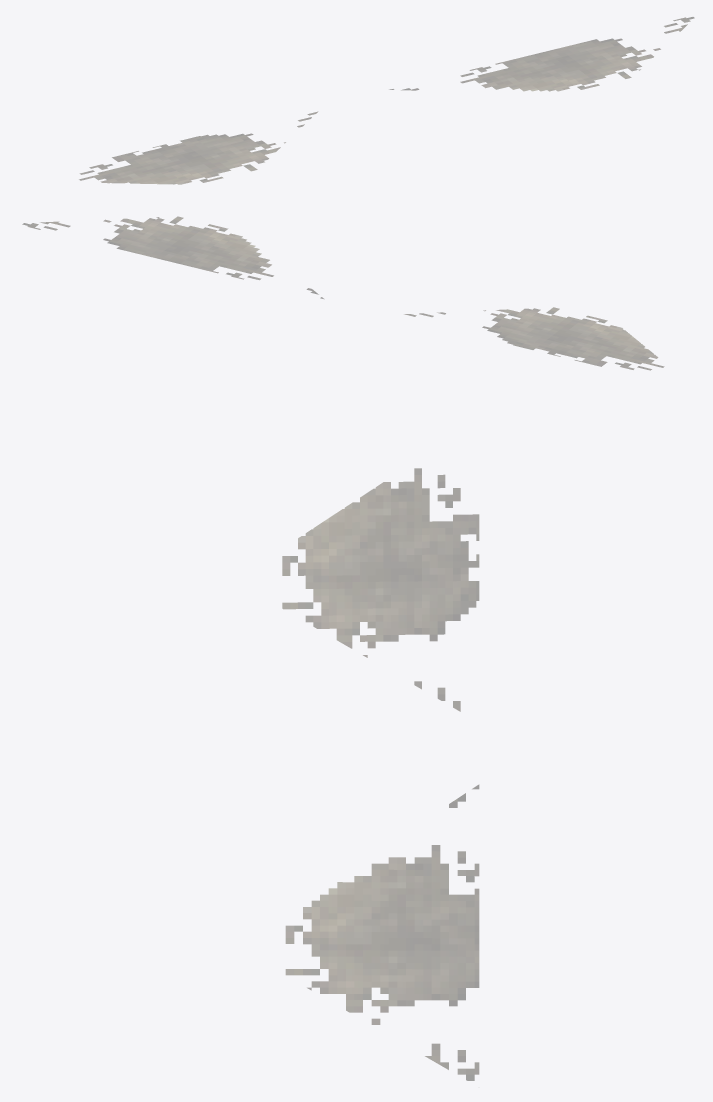
File: Archives_Alpha_56.glb
3 renders of one model, top to bottom at view 1: azimuth 30°, elevation 25°; view 2: azimuth 150°, elevation 25°; view 3: azimuth 270°, elevation 25°, orthographic. The views are drawn at different scales.
Visible parts, largest first — view 1: Archives_Alpha_56; view 2: Archives_Alpha_56; view 3: Archives_Alpha_56.
Part boxes in pixels (bbox=[...]): Archives_Alpha_56: bbox=[79, 17, 693, 184]; Archives_Alpha_56: bbox=[22, 216, 663, 370]; Archives_Alpha_56: bbox=[282, 468, 478, 1080].
Bounding box in the file's own units: 43.5 × 1.5e-15 × 6.75.
Materials: 1 (1 with a texture image).
